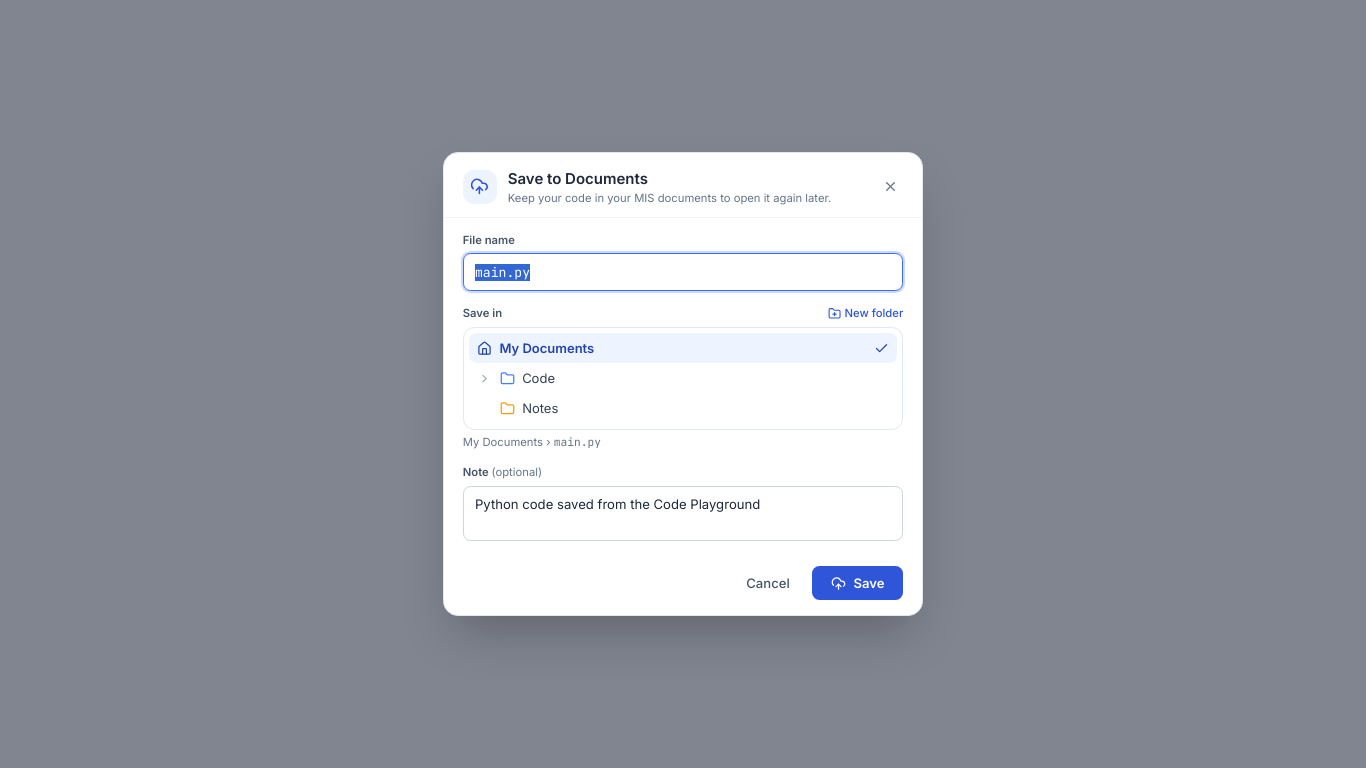
Test case: SaveToDocumentsDialog › saves the file to My Documents for the selected year, with a note and tags
The width and height of the screenshot is (1366, 768).
Check: the field with test id "save-docs-name" holds "main.py", box [463,253,903,291]
Click the button with test id "save-docs-submit": (858, 583) [812,566,903,600]
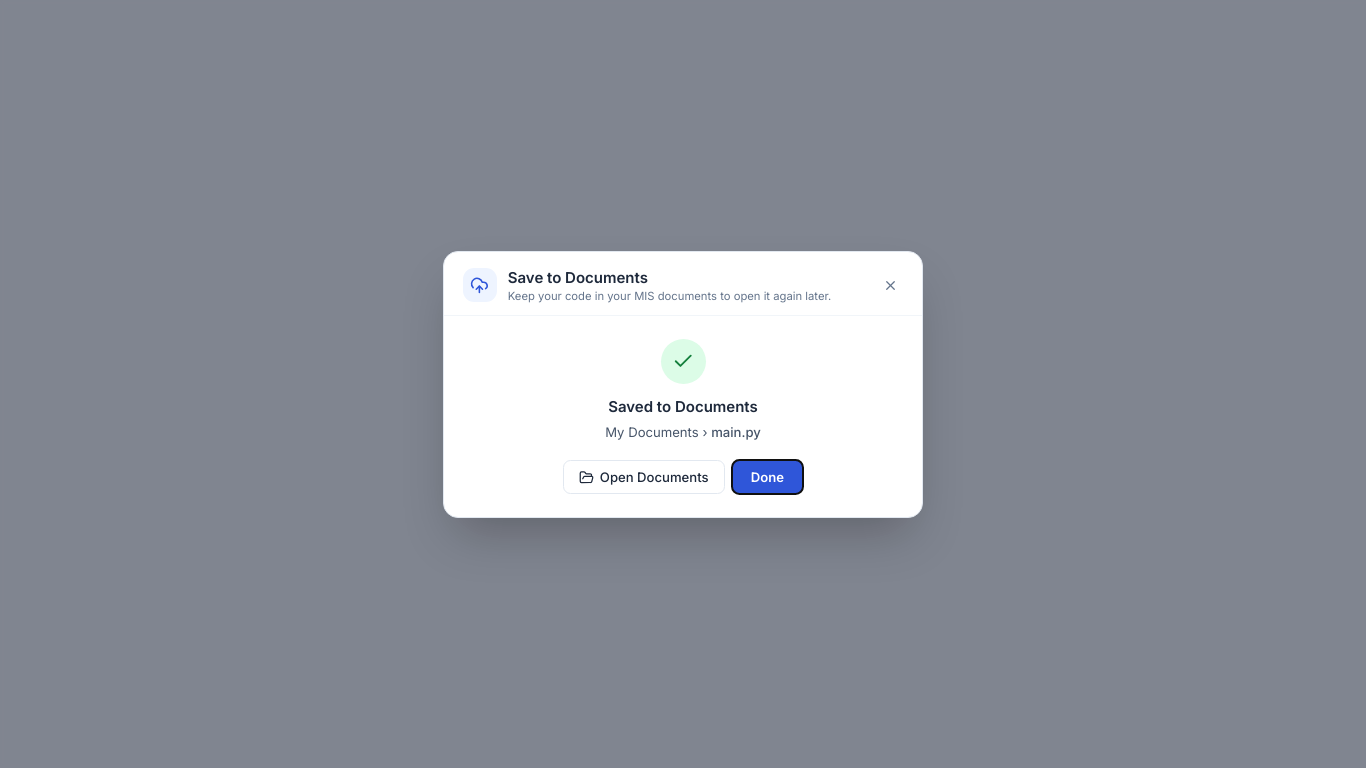
Check: the message with test id "save-docs-done" reads "Saved to Documents My Documents › main.py Open Documents Done", box [563,339,803,494]
